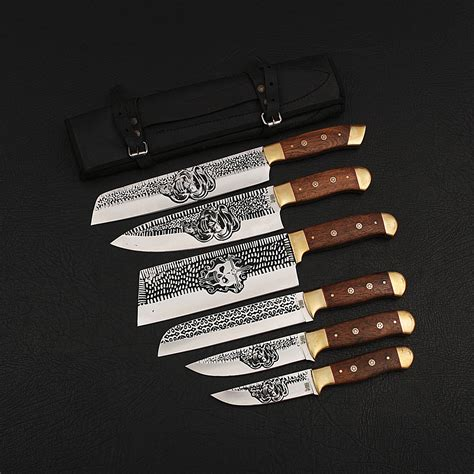knife: (140, 213, 399, 326), (89, 123, 367, 226), (110, 168, 373, 252), (155, 272, 407, 357), (186, 305, 415, 377), (210, 348, 414, 407)
